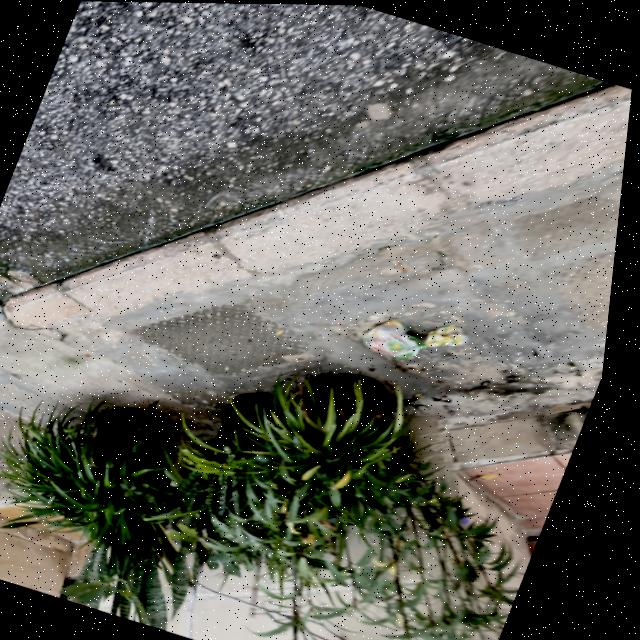Other: (365, 312, 440, 364), (424, 315, 479, 356)
